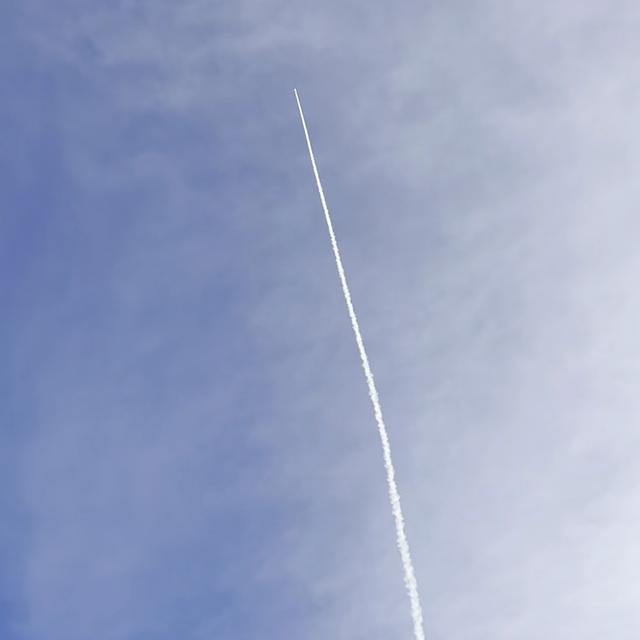smoke_trail_no_rocket: (294, 94, 425, 640)
